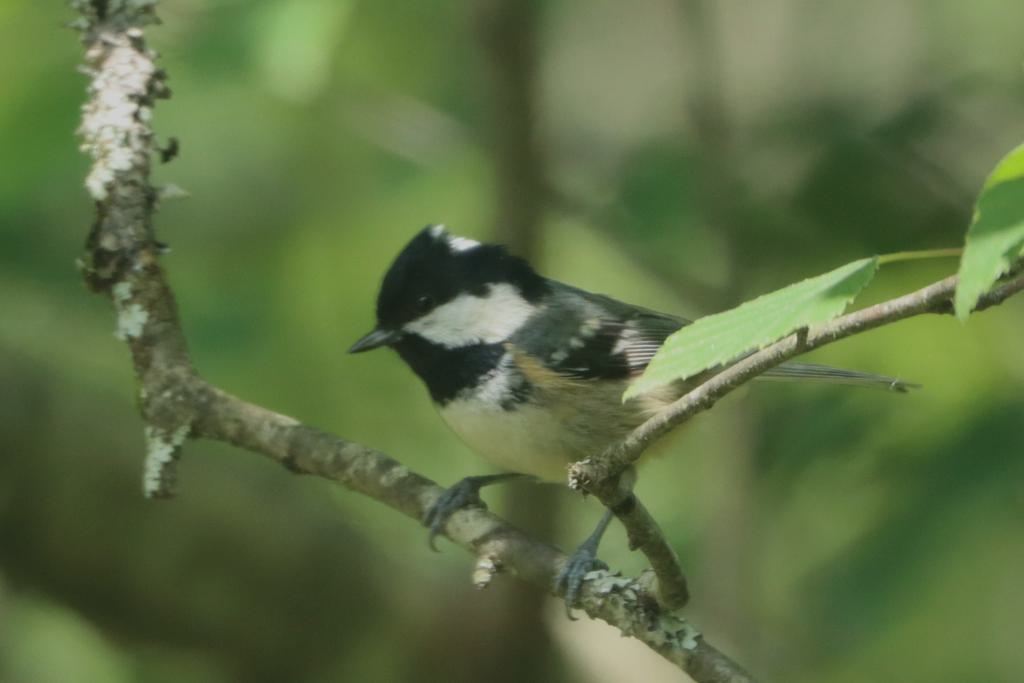PeriparusAter: (343, 220, 925, 623)
